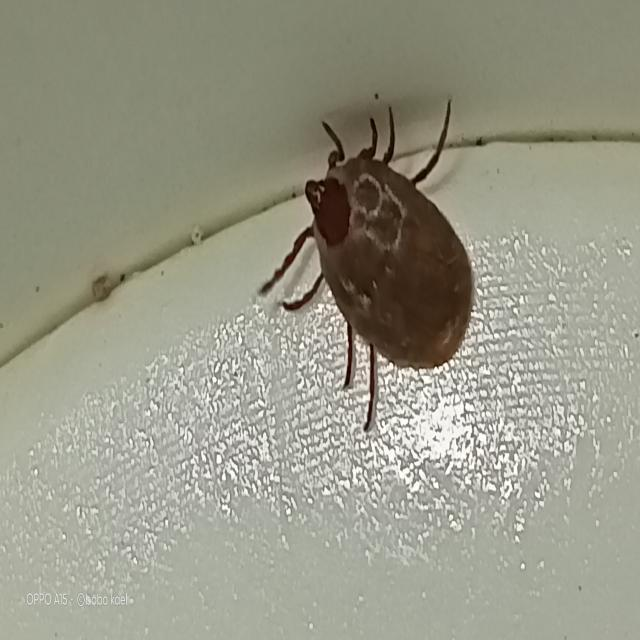Rhipicephalus Sanguineus-F-Fed: (258, 97, 474, 434)
